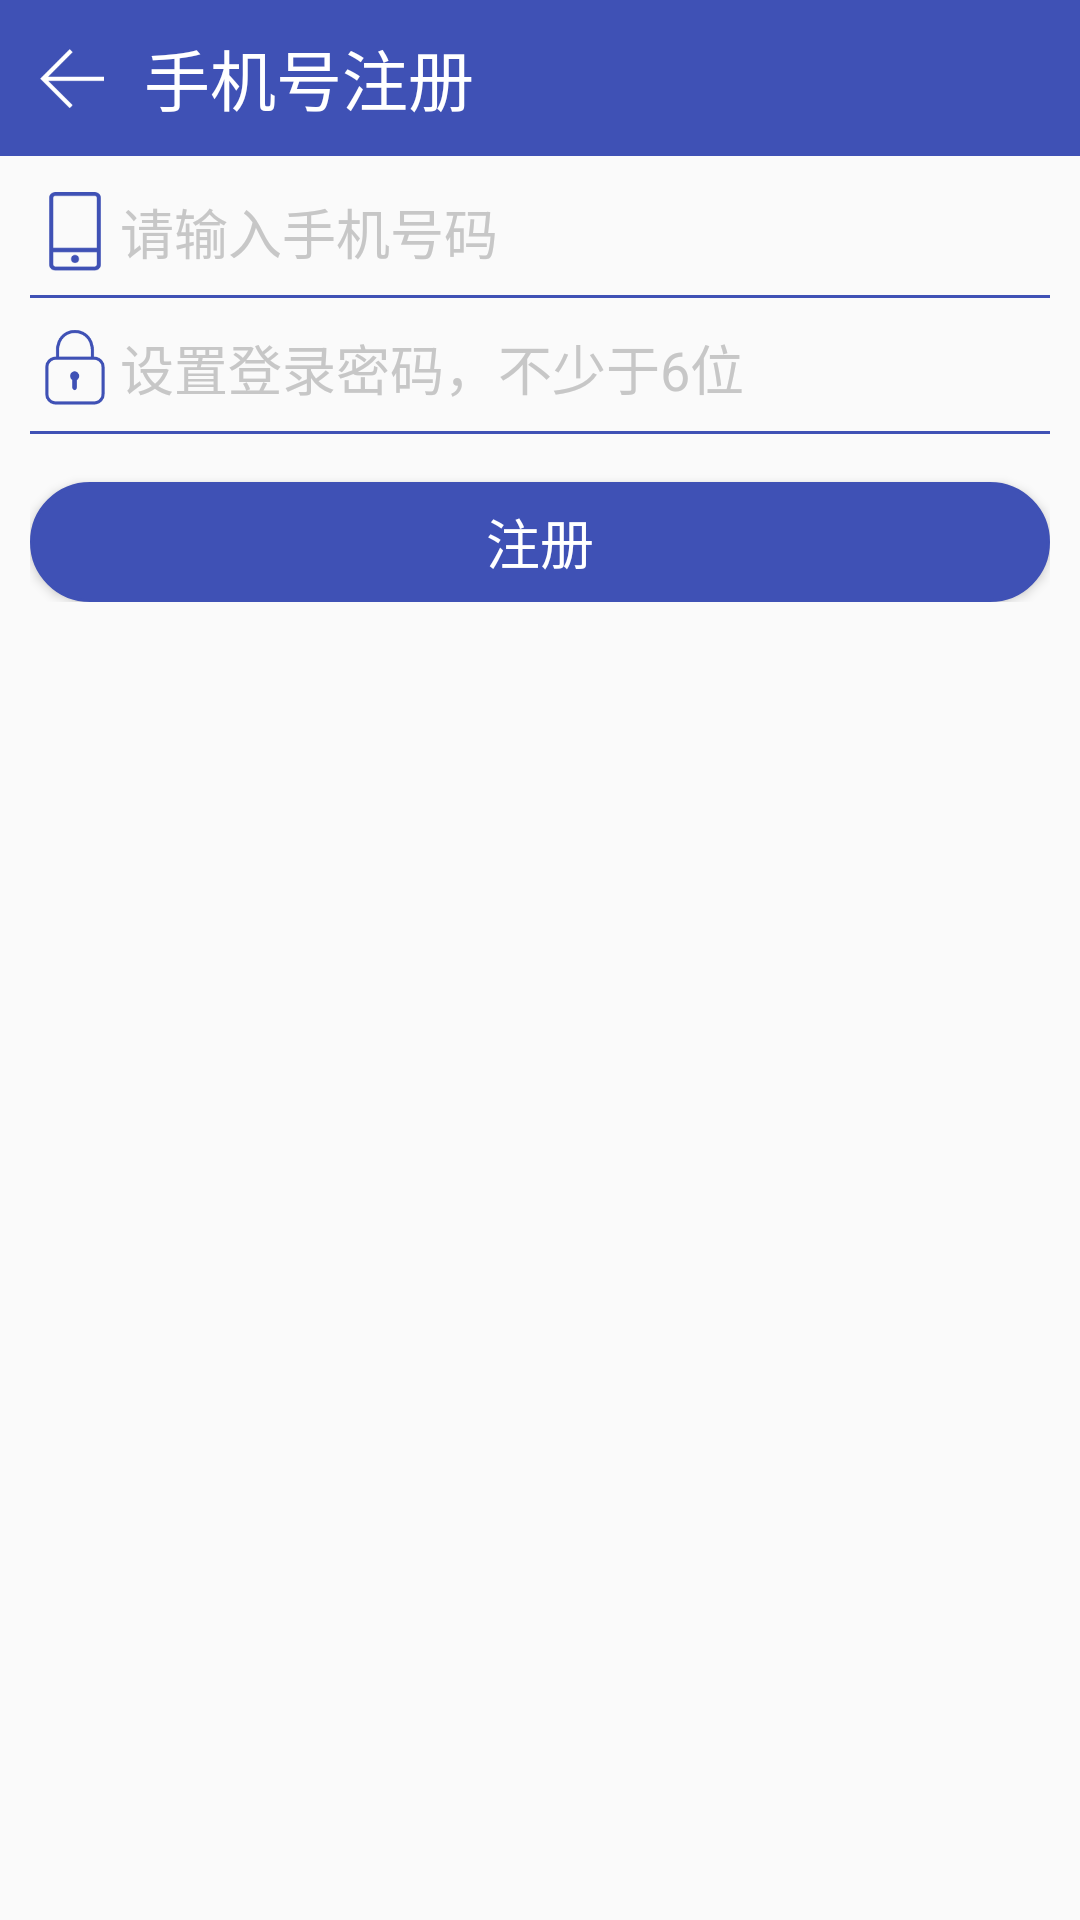

Icon bounding boxes for this 1080*1920 phone screenshot, format (x1, y1, x2, y2):
back: (40, 49, 104, 108)
phone: (49, 192, 101, 271)
secret: (45, 330, 105, 405)
